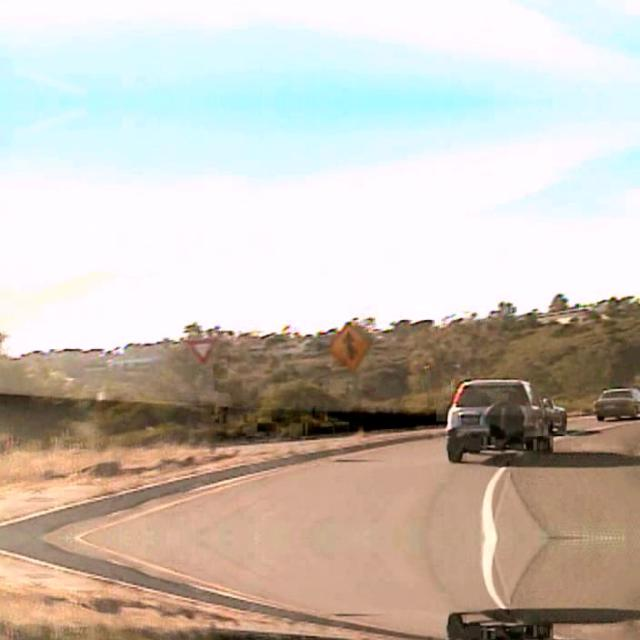yield: (186, 335, 216, 363)
